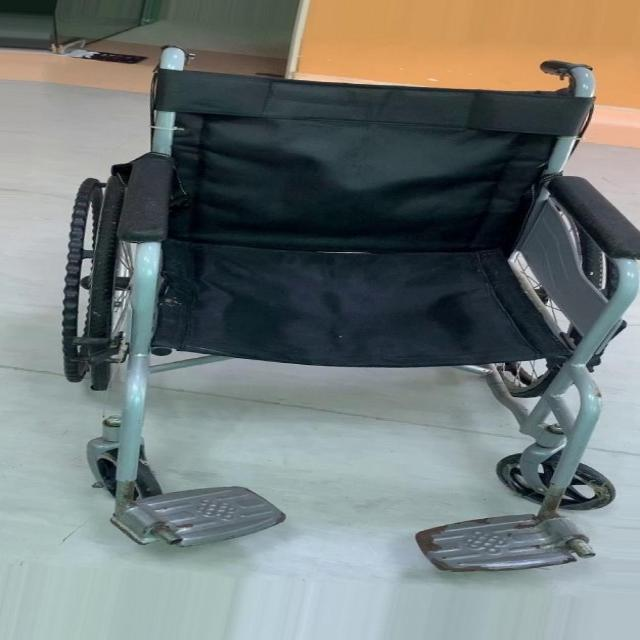wheelchair: (27, 29, 640, 583)
